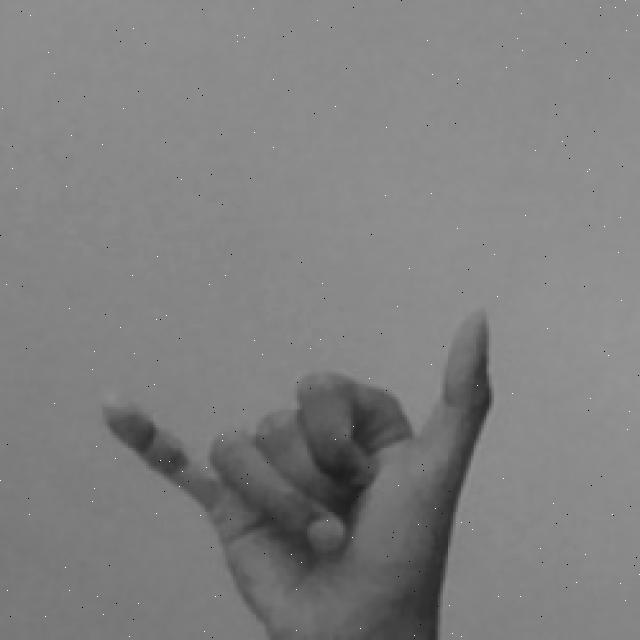Y: (96, 298, 496, 640)
